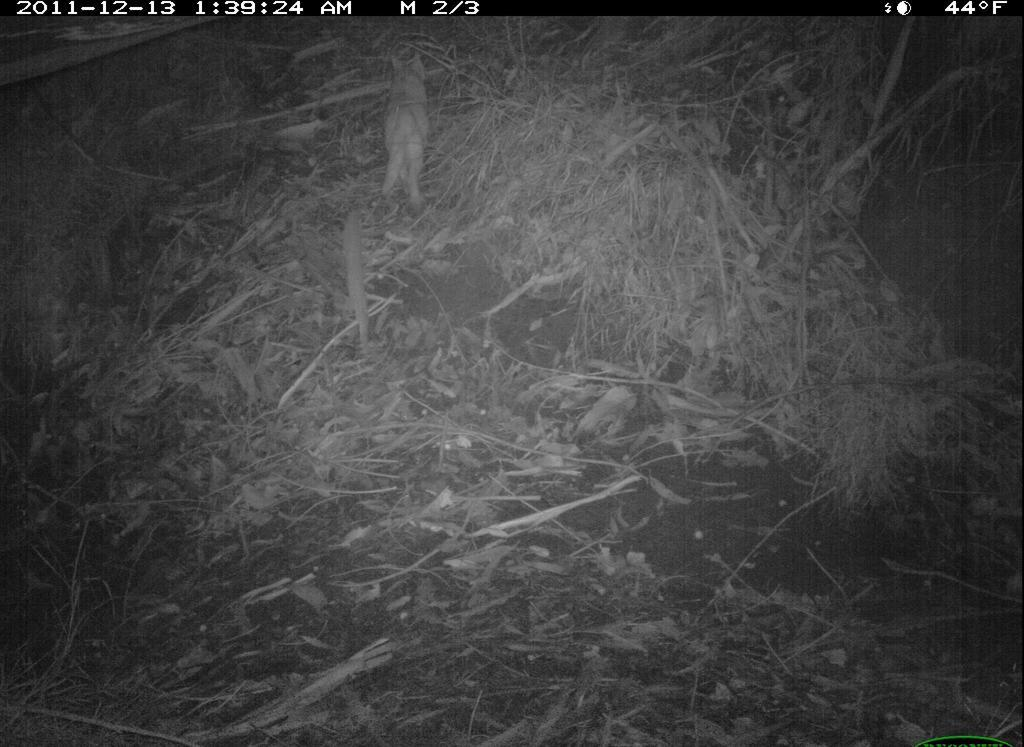cat: (374, 38, 446, 210)
